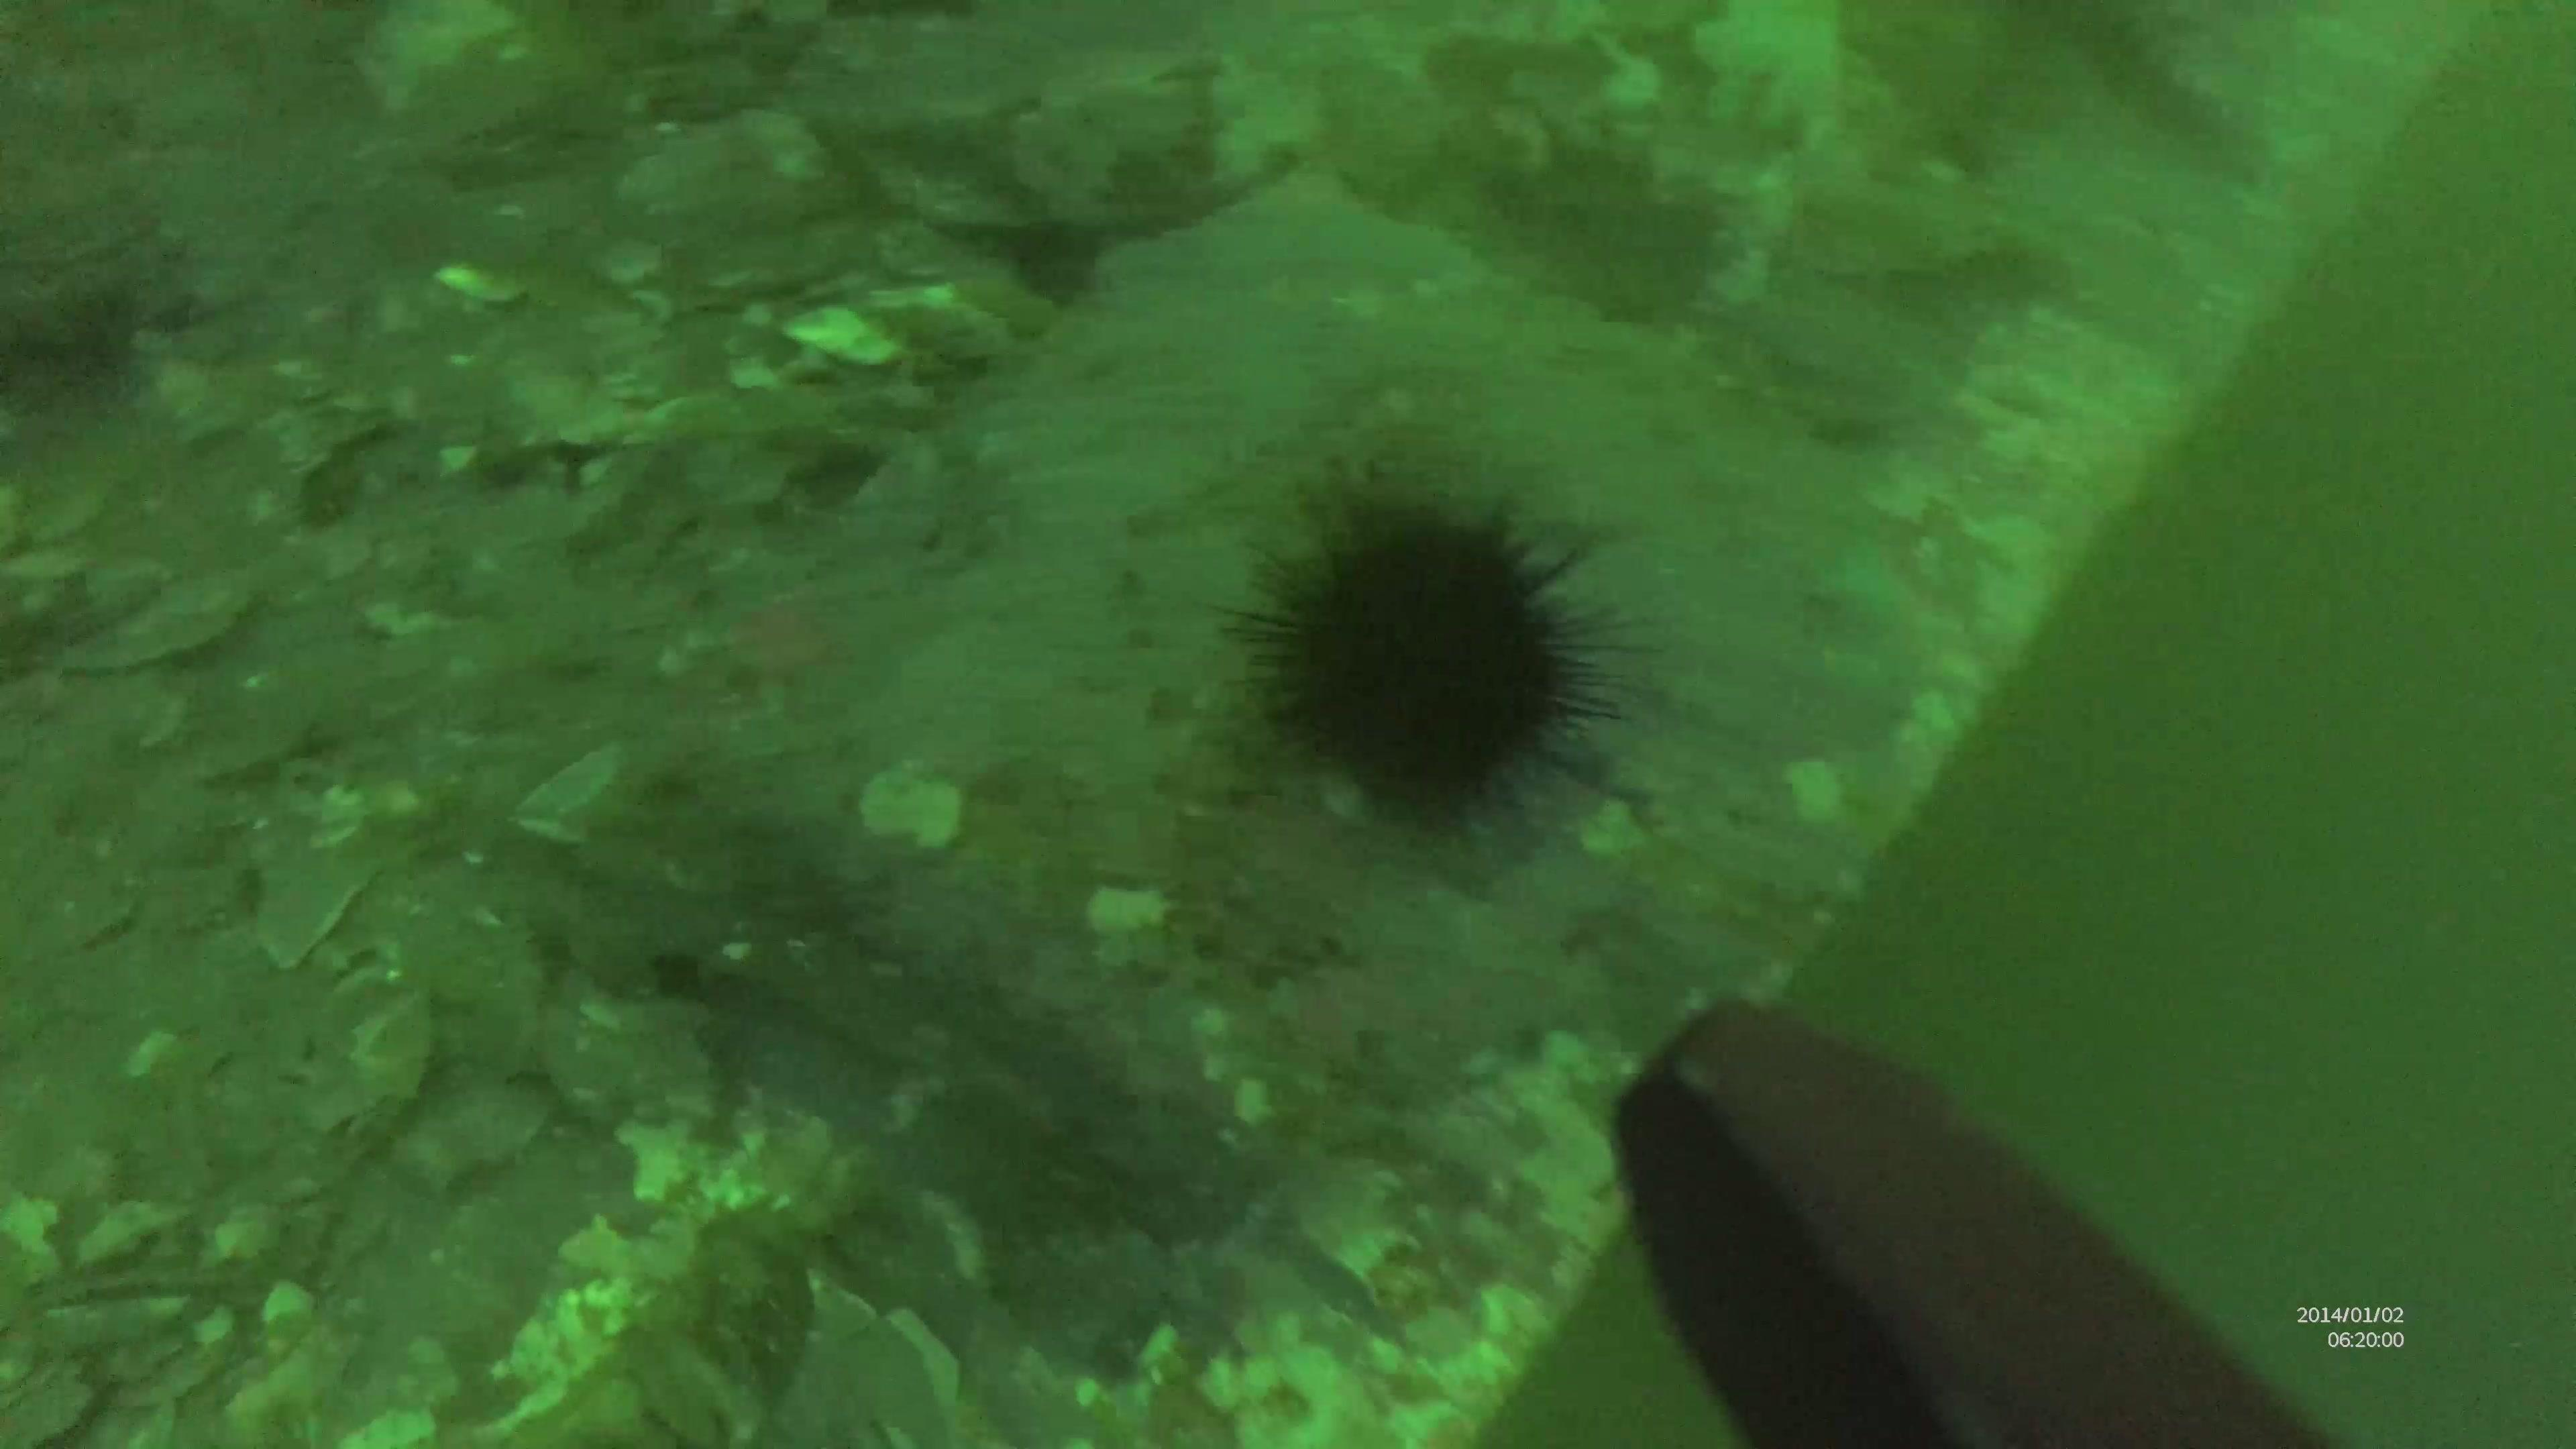echinus: (1214, 483, 1652, 849)
